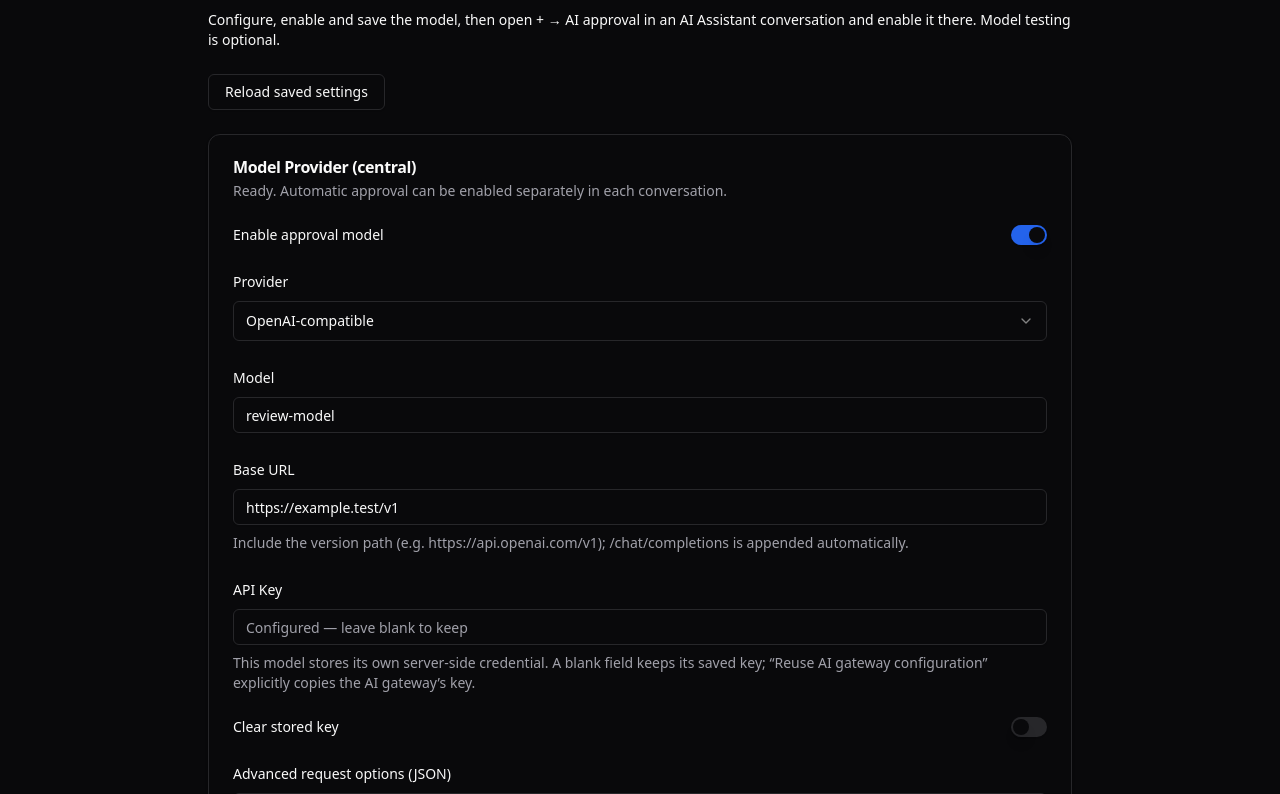
Test: independent OSS approval model configuration › persists deactivation without changing any conversation delegation
The image size is (1280, 794).
Expected: the field showing "review-model" is shown, [233,397,1047,433]
Click the switch named "Enable approval model" in the row of "Enable approval model" at (1029, 235), box [1011,225,1047,245]
(page scrolled)
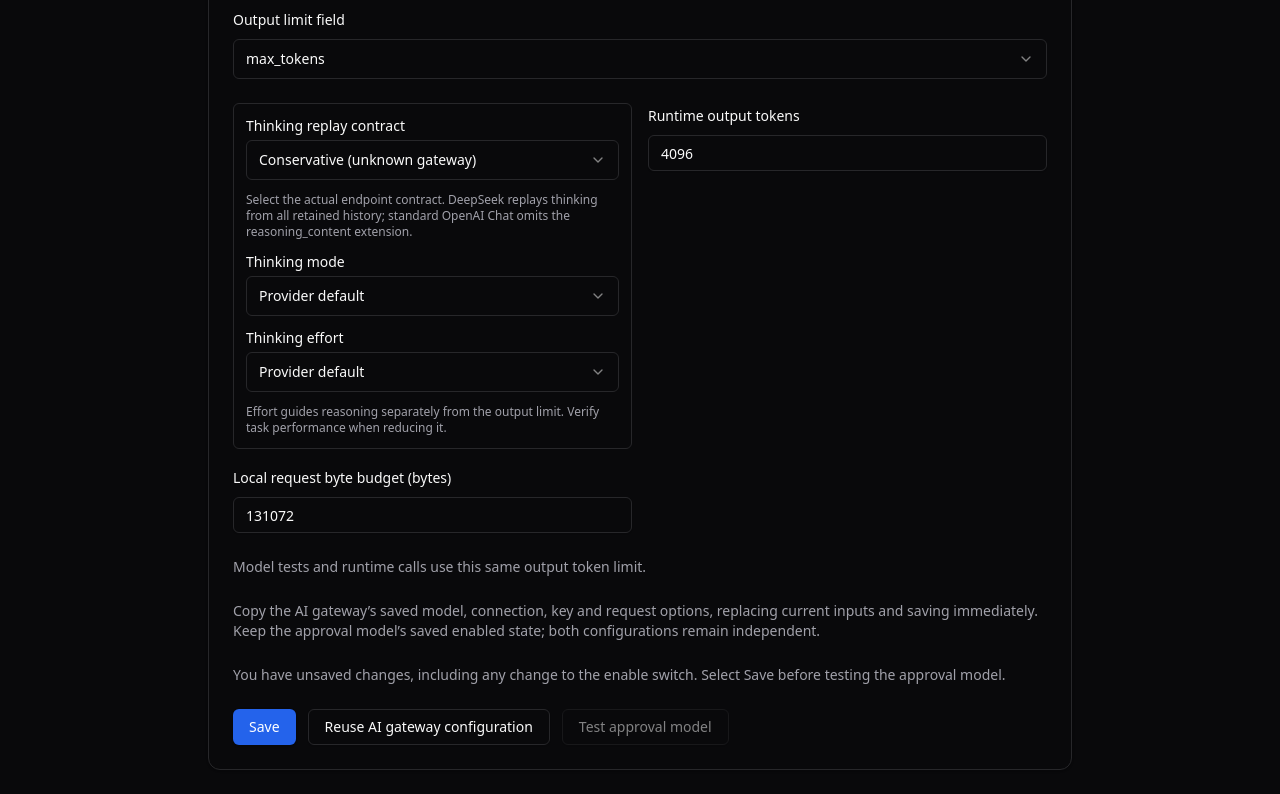
Click the button "Save" at (264, 727), box [233,709,296,745]
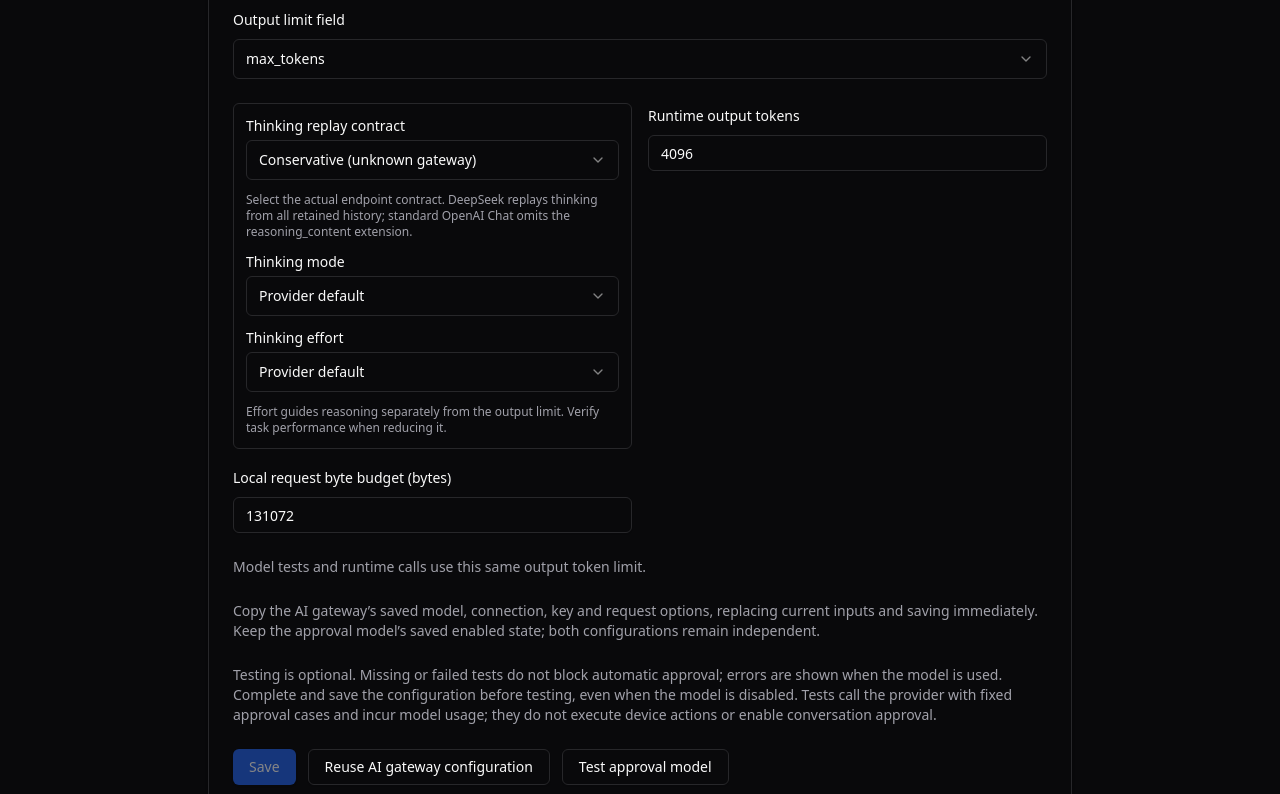
Expected: the button "Test approval model" is enabled, [562,749,729,785]
